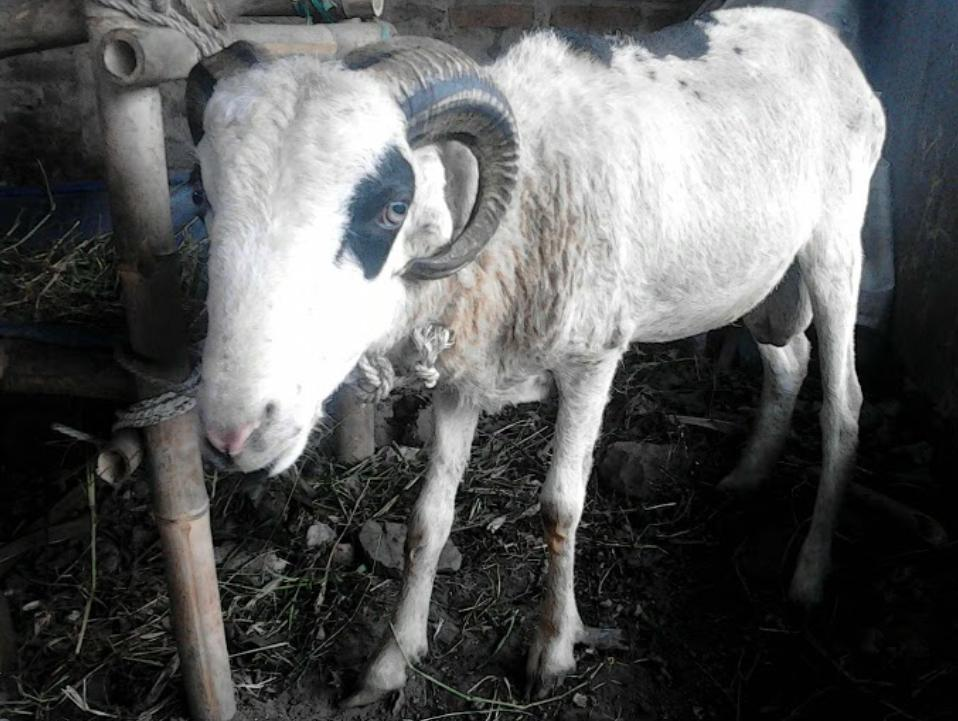Sheep: (187, 38, 513, 474)
